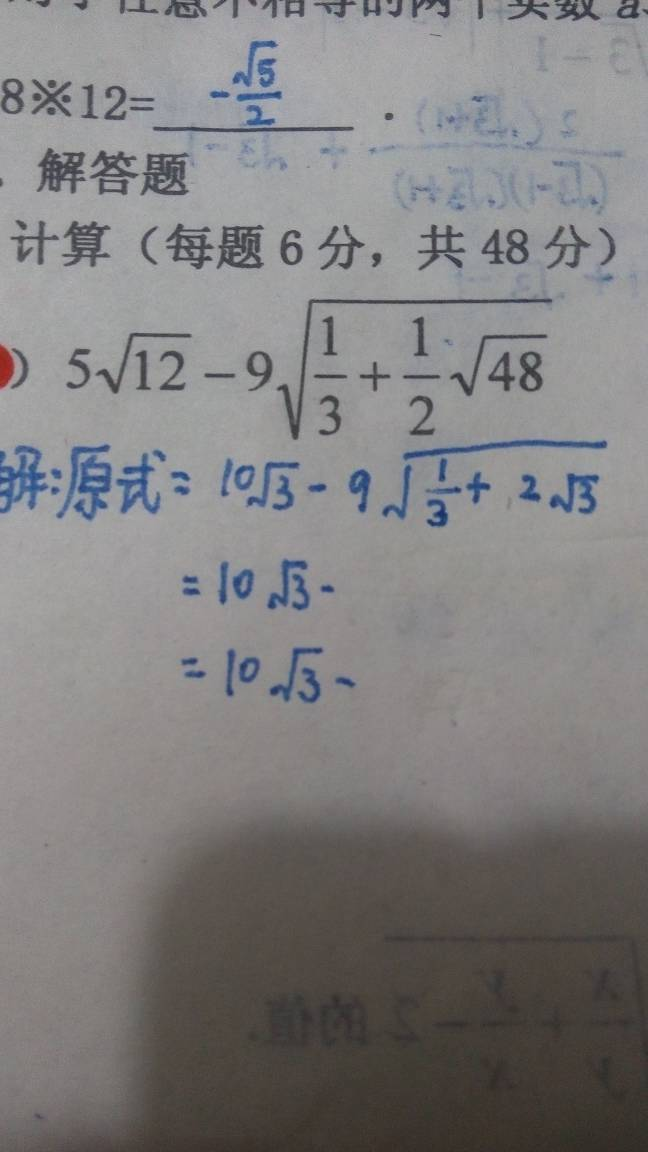division: (397, 363, 447, 393), (307, 361, 343, 396), (430, 478, 463, 503)
sqrt: (278, 284, 571, 441), (384, 427, 623, 549), (99, 322, 205, 402), (270, 642, 342, 716), (273, 547, 330, 631), (232, 36, 291, 92), (253, 458, 307, 516)
